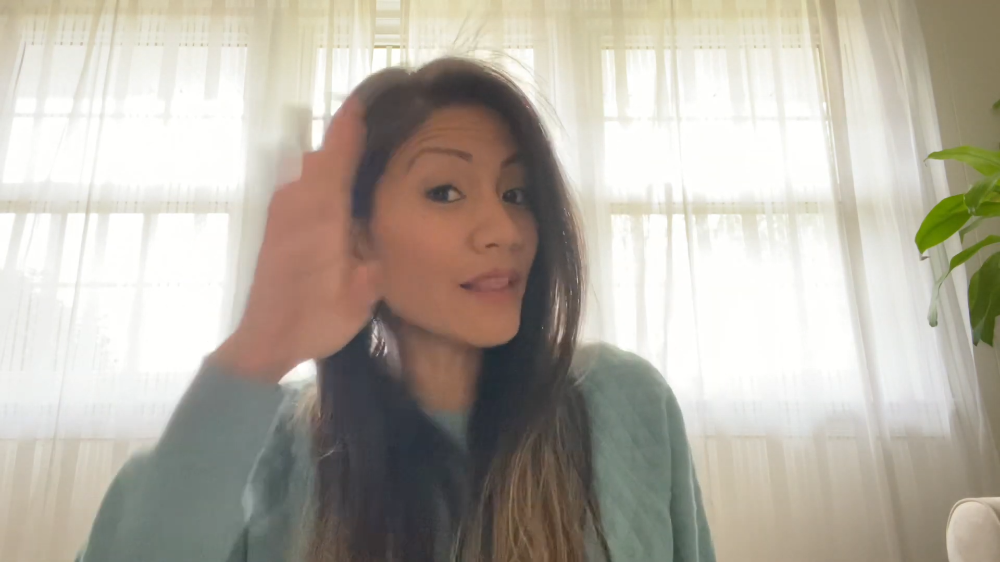hello: (240, 100, 386, 368)
